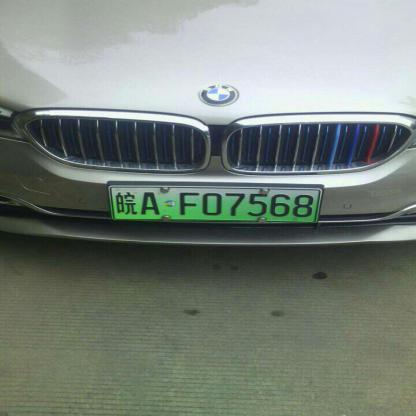lp: (109, 188, 320, 223)
